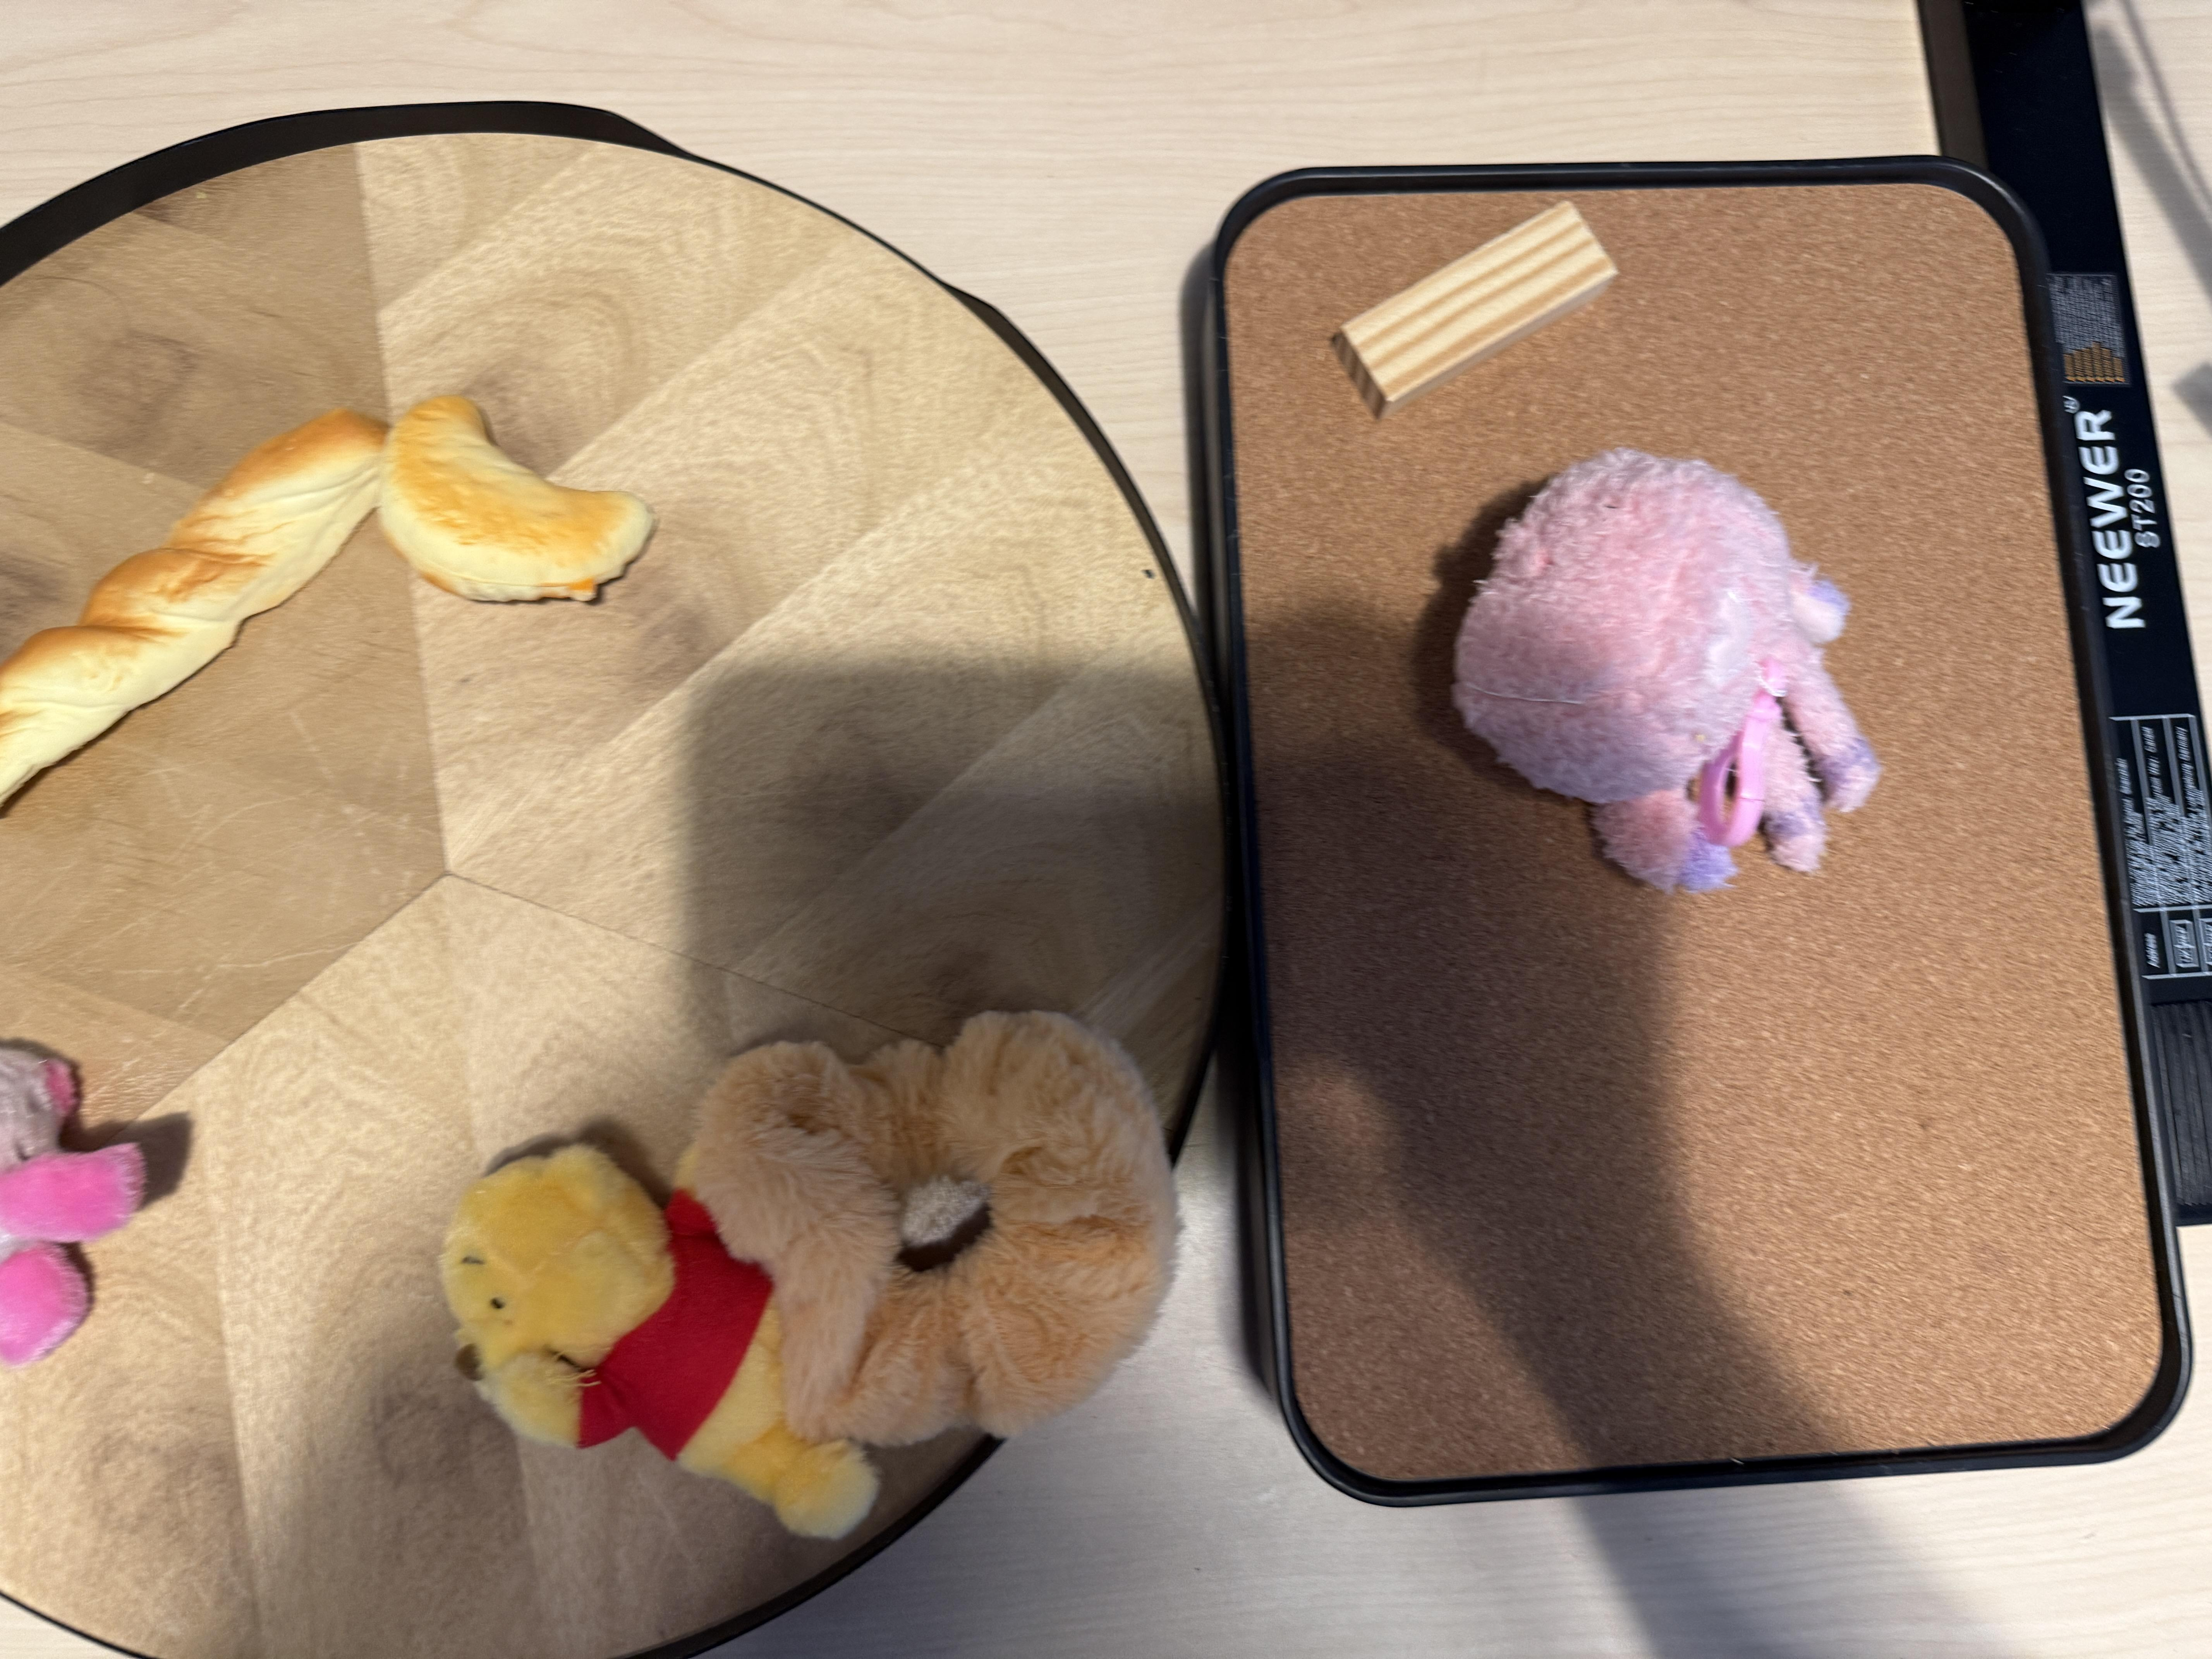block: (1336, 197, 1623, 413)
bread: (0, 404, 392, 838), (378, 389, 660, 601)
doll: (441, 1014, 1184, 1523), (1449, 457, 1886, 889), (0, 1035, 146, 1361)
